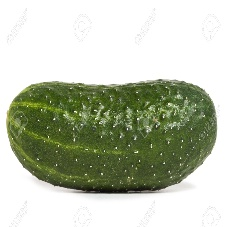cucumber: (7, 82, 219, 191)
